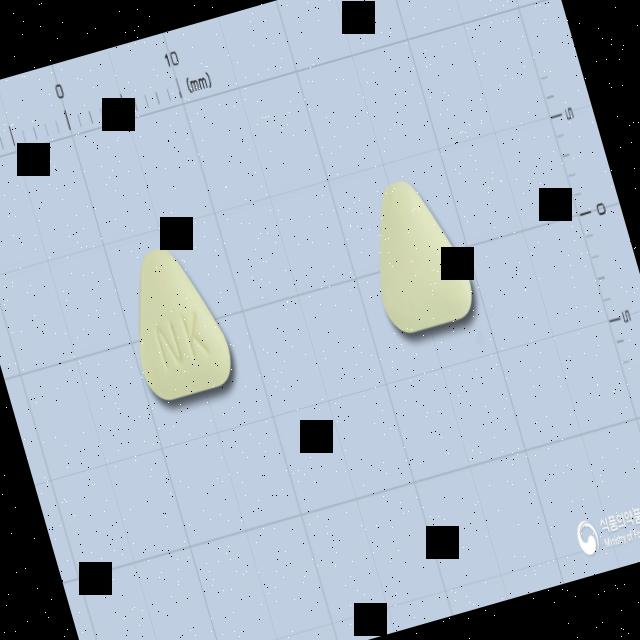Aris: (107, 227, 246, 419)
